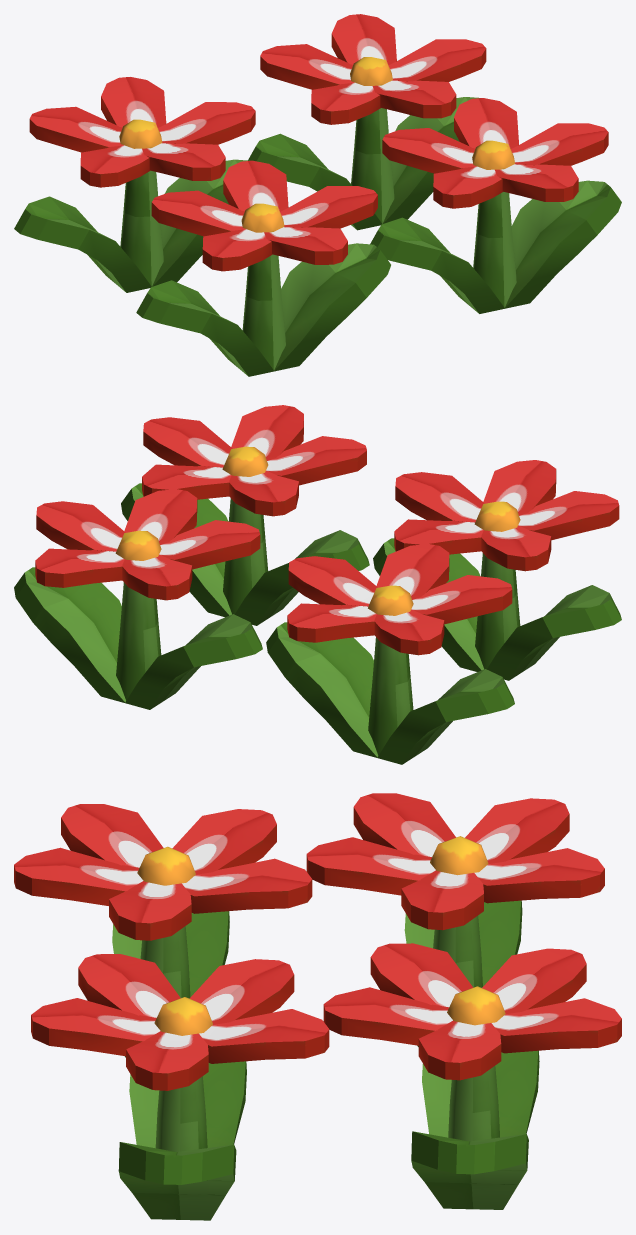
Rendered from Flower@Model.fbx.
The picture shows the model from 3 angles, top to bottom: view 1: azimuth 30°, elevation 25°; view 2: azimuth 150°, elevation 25°; view 3: azimuth 270°, elevation 25°; orthographic projection. The views are drawn at different scales.
Visible parts, largest first — view 1: Flower; view 2: Flower; view 3: Flower.
Boxes of the visible parts, x1,y1,x2,y2 form: Flower: [14, 14, 621, 376]; Flower: [14, 405, 621, 764]; Flower: [14, 793, 621, 1220].
Bounding box in the file's own units: 162 × 51.58 × 135.
